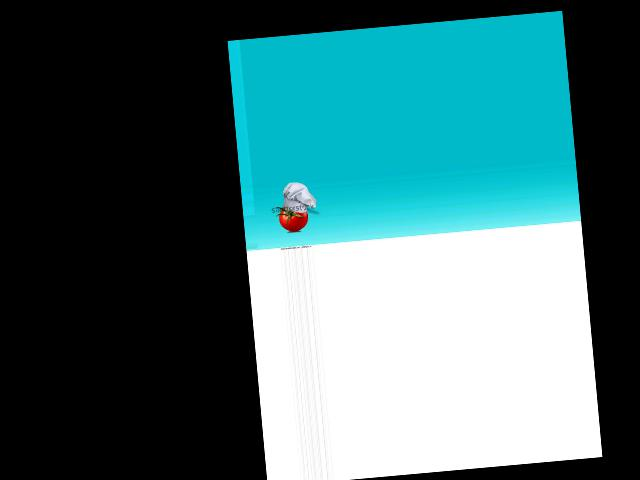tomato: (279, 205, 309, 231)
